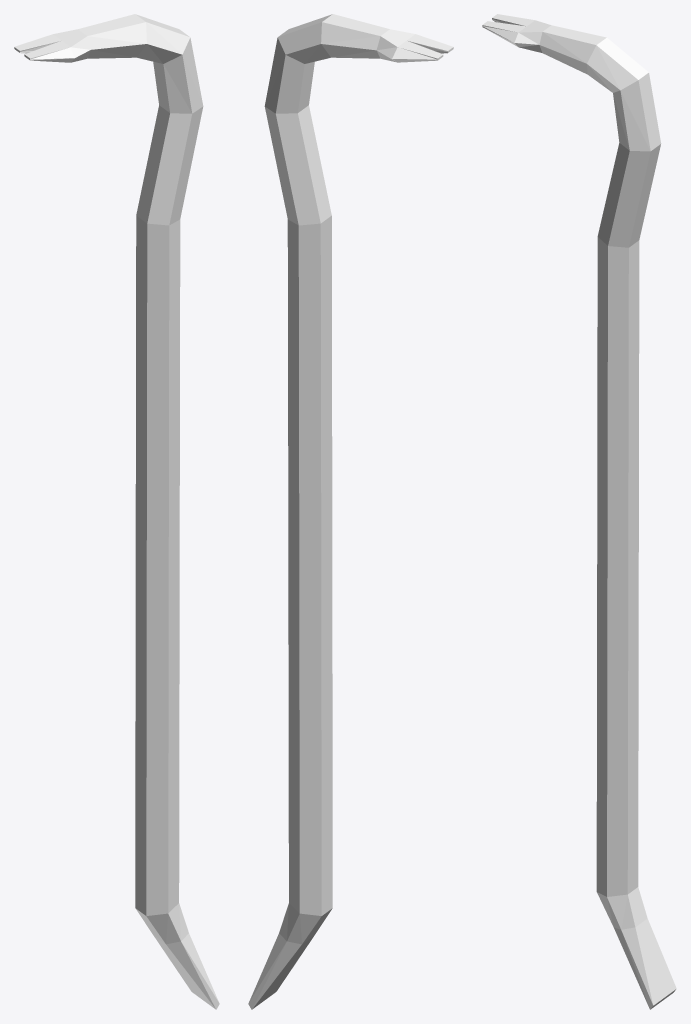
The model's file is Tool_Crowbar_01.glb.
3 views of the same model, side by side, from view 1: azimuth 30°, elevation 25°; view 2: azimuth 150°, elevation 25°; view 3: azimuth 330°, elevation 25° (orthographic). The views are drawn at different scales.
Parts seen in each view (by area): view 1: Tool_Crowbar_01; view 2: Tool_Crowbar_01; view 3: Tool_Crowbar_01.
Boxes of the visible parts, left/top/right/bottom form: Tool_Crowbar_01: left=14, top=14, right=219, bottom=1009; Tool_Crowbar_01: left=248, top=14, right=453, bottom=1009; Tool_Crowbar_01: left=482, top=14, right=676, bottom=1009.
Bounding box in the file's own units: 0.1739 × 0.8958 × 0.045.
1 material, 1 textured.
